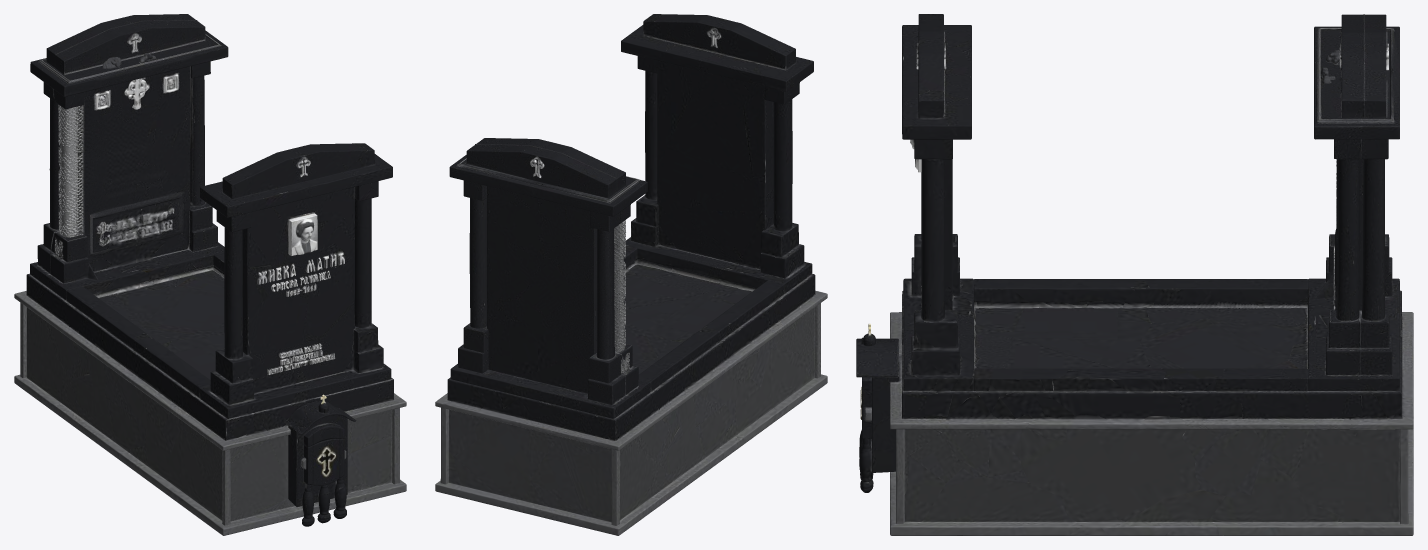
Rendered from Zivka-Matic.glb.
The picture shows the model from 3 angles, left to right: view 1: azimuth 30°, elevation 25°; view 2: azimuth 150°, elevation 25°; view 3: azimuth 270°, elevation 25°; orthographic projection. The views are drawn at different scales.
Size of the model in its own units: 0.908 by 1.66 by 1.9.
1 material, 1 textured.
